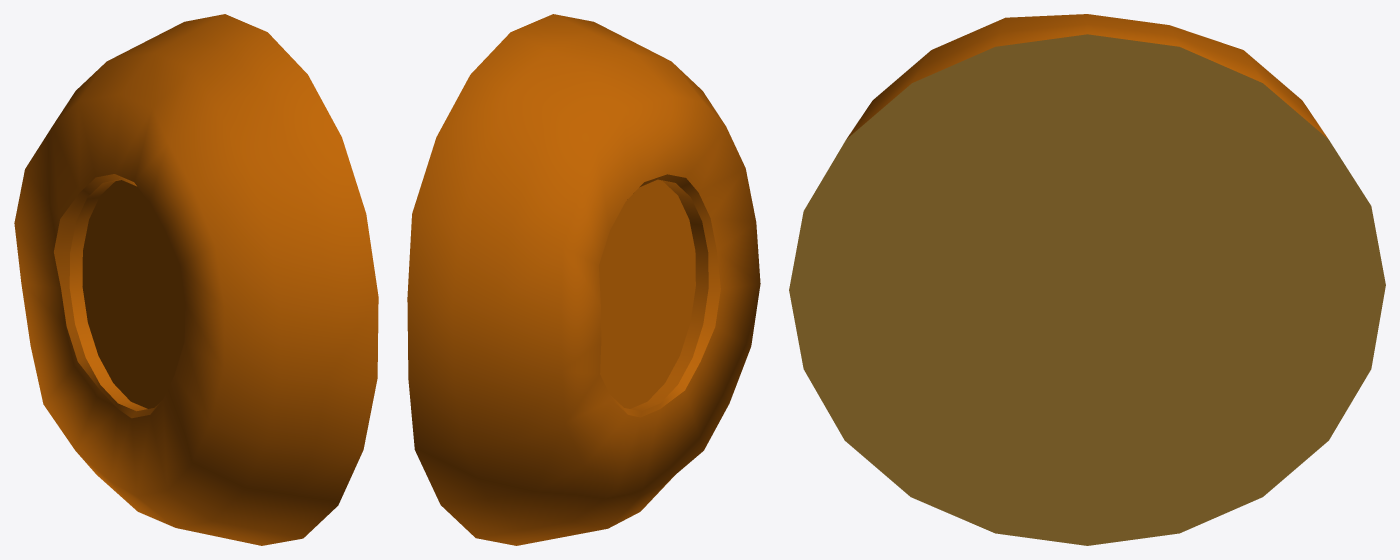
File: mesh_Carrot_Stage11.fbx
The picture shows the model from 3 angles, left to right: view 1: azimuth 30°, elevation 25°; view 2: azimuth 150°, elevation 25°; view 3: azimuth 270°, elevation 25°; orthographic projection. The views are drawn at different scales.
Visible parts, largest first — view 1: mesh_Carrot_Stage11; view 2: mesh_Carrot_Stage11; view 3: mesh_Carrot_Stage11.
Boxes of the visible parts, left/top/right/bottom form: mesh_Carrot_Stage11: left=14, top=14, right=378, bottom=545; mesh_Carrot_Stage11: left=407, top=14, right=760, bottom=545; mesh_Carrot_Stage11: left=789, top=14, right=1385, bottom=545.
Size of the model in its own units: 0.0181 by 0.0508 by 0.051.
